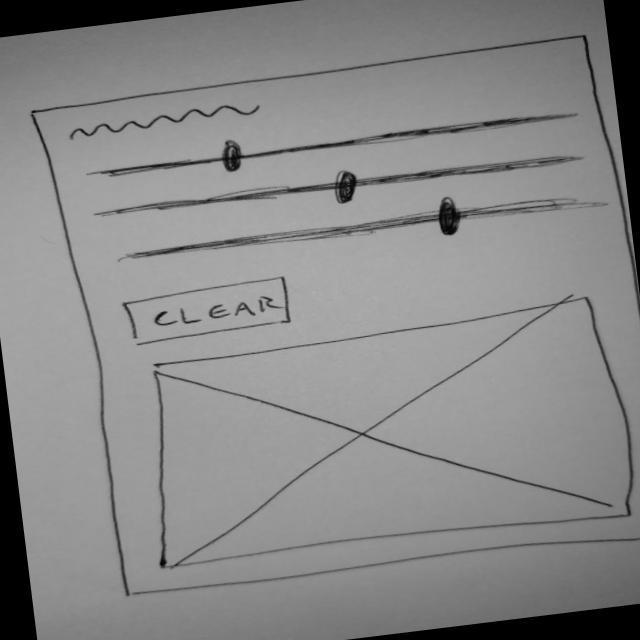button: (117, 273, 301, 349)
container: (19, 25, 640, 612)
image: (132, 295, 640, 580)
slider: (115, 178, 611, 279), (87, 96, 588, 189), (97, 141, 589, 234)
text: (67, 99, 275, 145)
